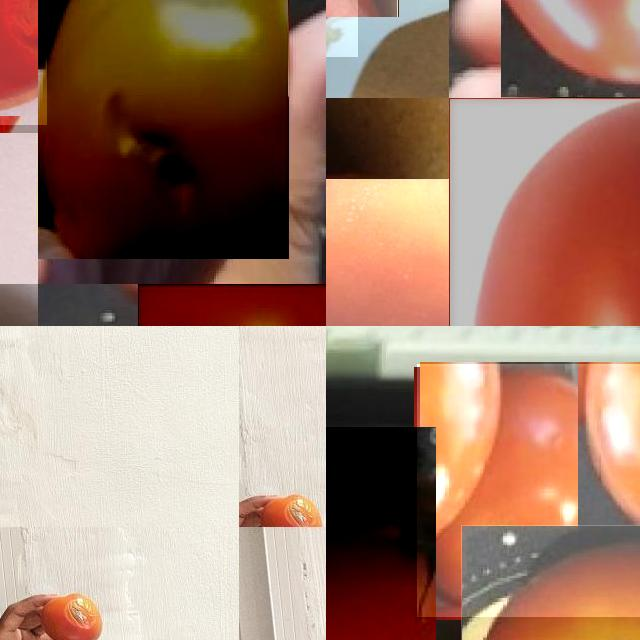Fresh Tomato: (417, 364, 640, 616), (449, 98, 640, 326), (326, 427, 436, 640), (460, 525, 640, 640), (326, 179, 449, 326)
Rotten Tomato: (38, 0, 288, 259)
